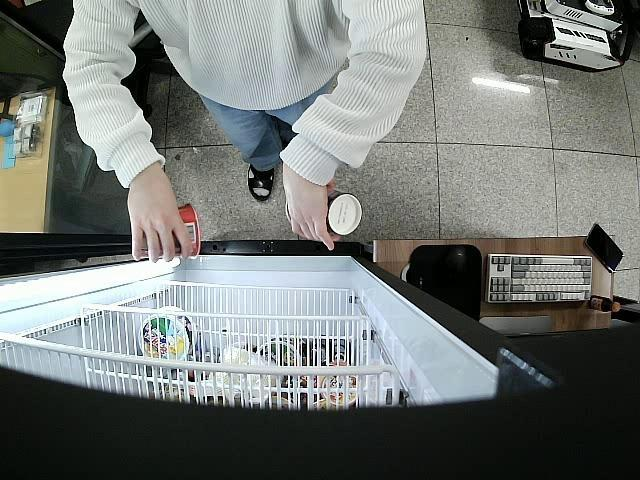02_shinRamen_S: (283, 189, 365, 238), (142, 202, 206, 262)
